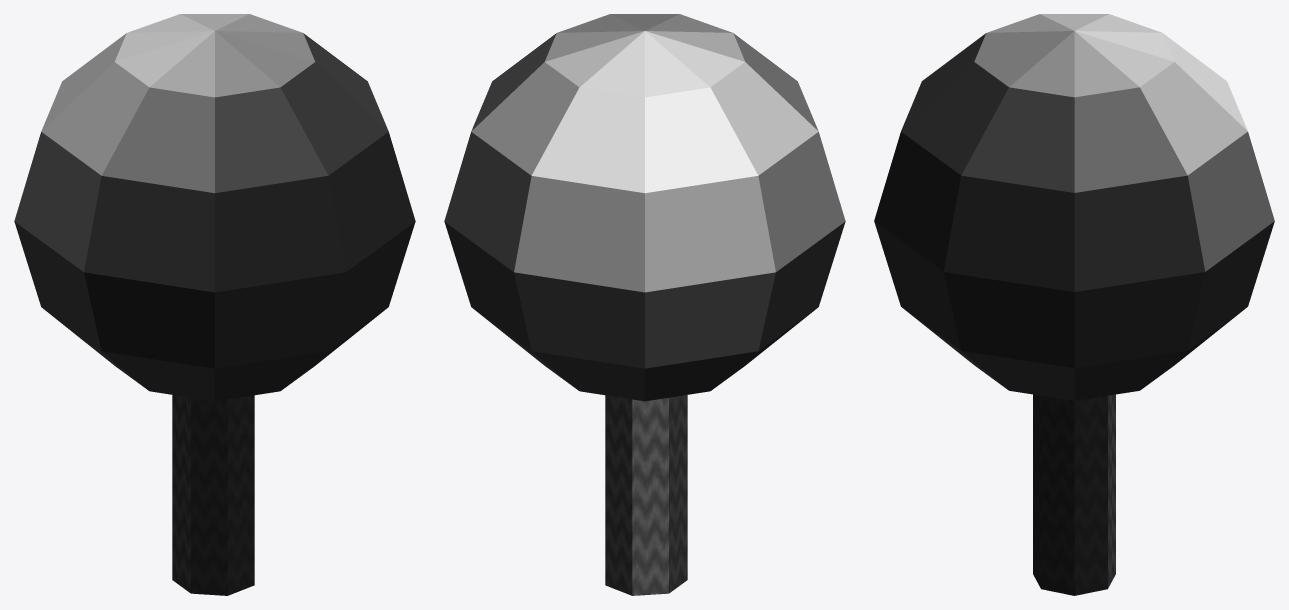
The model's file is tree.obj.
3 renders of one model, left to right at view 1: azimuth 30°, elevation 25°; view 2: azimuth 150°, elevation 25°; view 3: azimuth 270°, elevation 25°, orthographic.
Visible parts, largest first — view 1: tree; view 2: tree; view 3: tree.
Boxes of the visible parts, x1,y1,x2,y2 form: tree: (14,14,415,595); tree: (444,14,845,595); tree: (874,14,1274,595).
Bounding box in the file's own units: 1.2 × 1.84 × 1.22.
3 materials, 3 textured.
